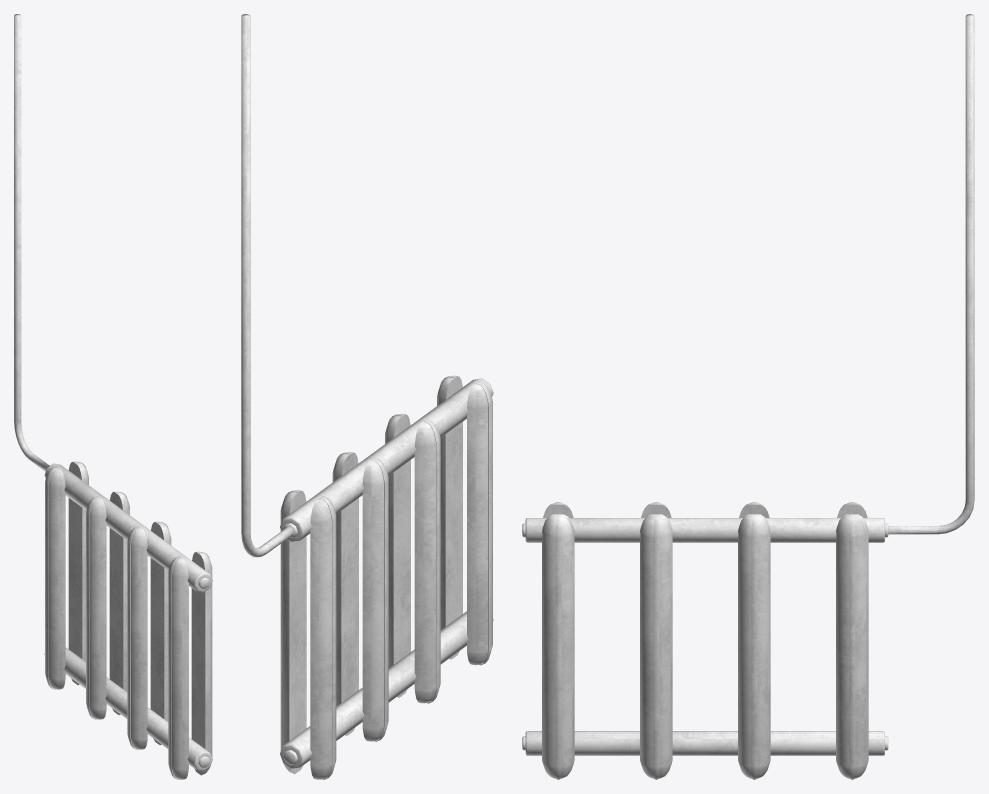
The model's file is radiator.obj.
The picture shows the model from 3 angles, left to right: view 1: azimuth 30°, elevation 25°; view 2: azimuth 150°, elevation 25°; view 3: azimuth 270°, elevation 25°; orthographic projection. The views are drawn at different scales.
Visible parts, largest first — view 1: radiator; view 2: radiator; view 3: radiator.
Part boxes in pixels (x1=…): radiator: x1=14, y1=14, x2=212, y2=779; radiator: x1=241, y1=14, x2=493, y2=779; radiator: x1=522, y1=14, x2=974, y2=779.
Bounding box in the file's own units: 0.088 × 1.28 × 0.6921.
Materials: 1 (1 with a texture image).
